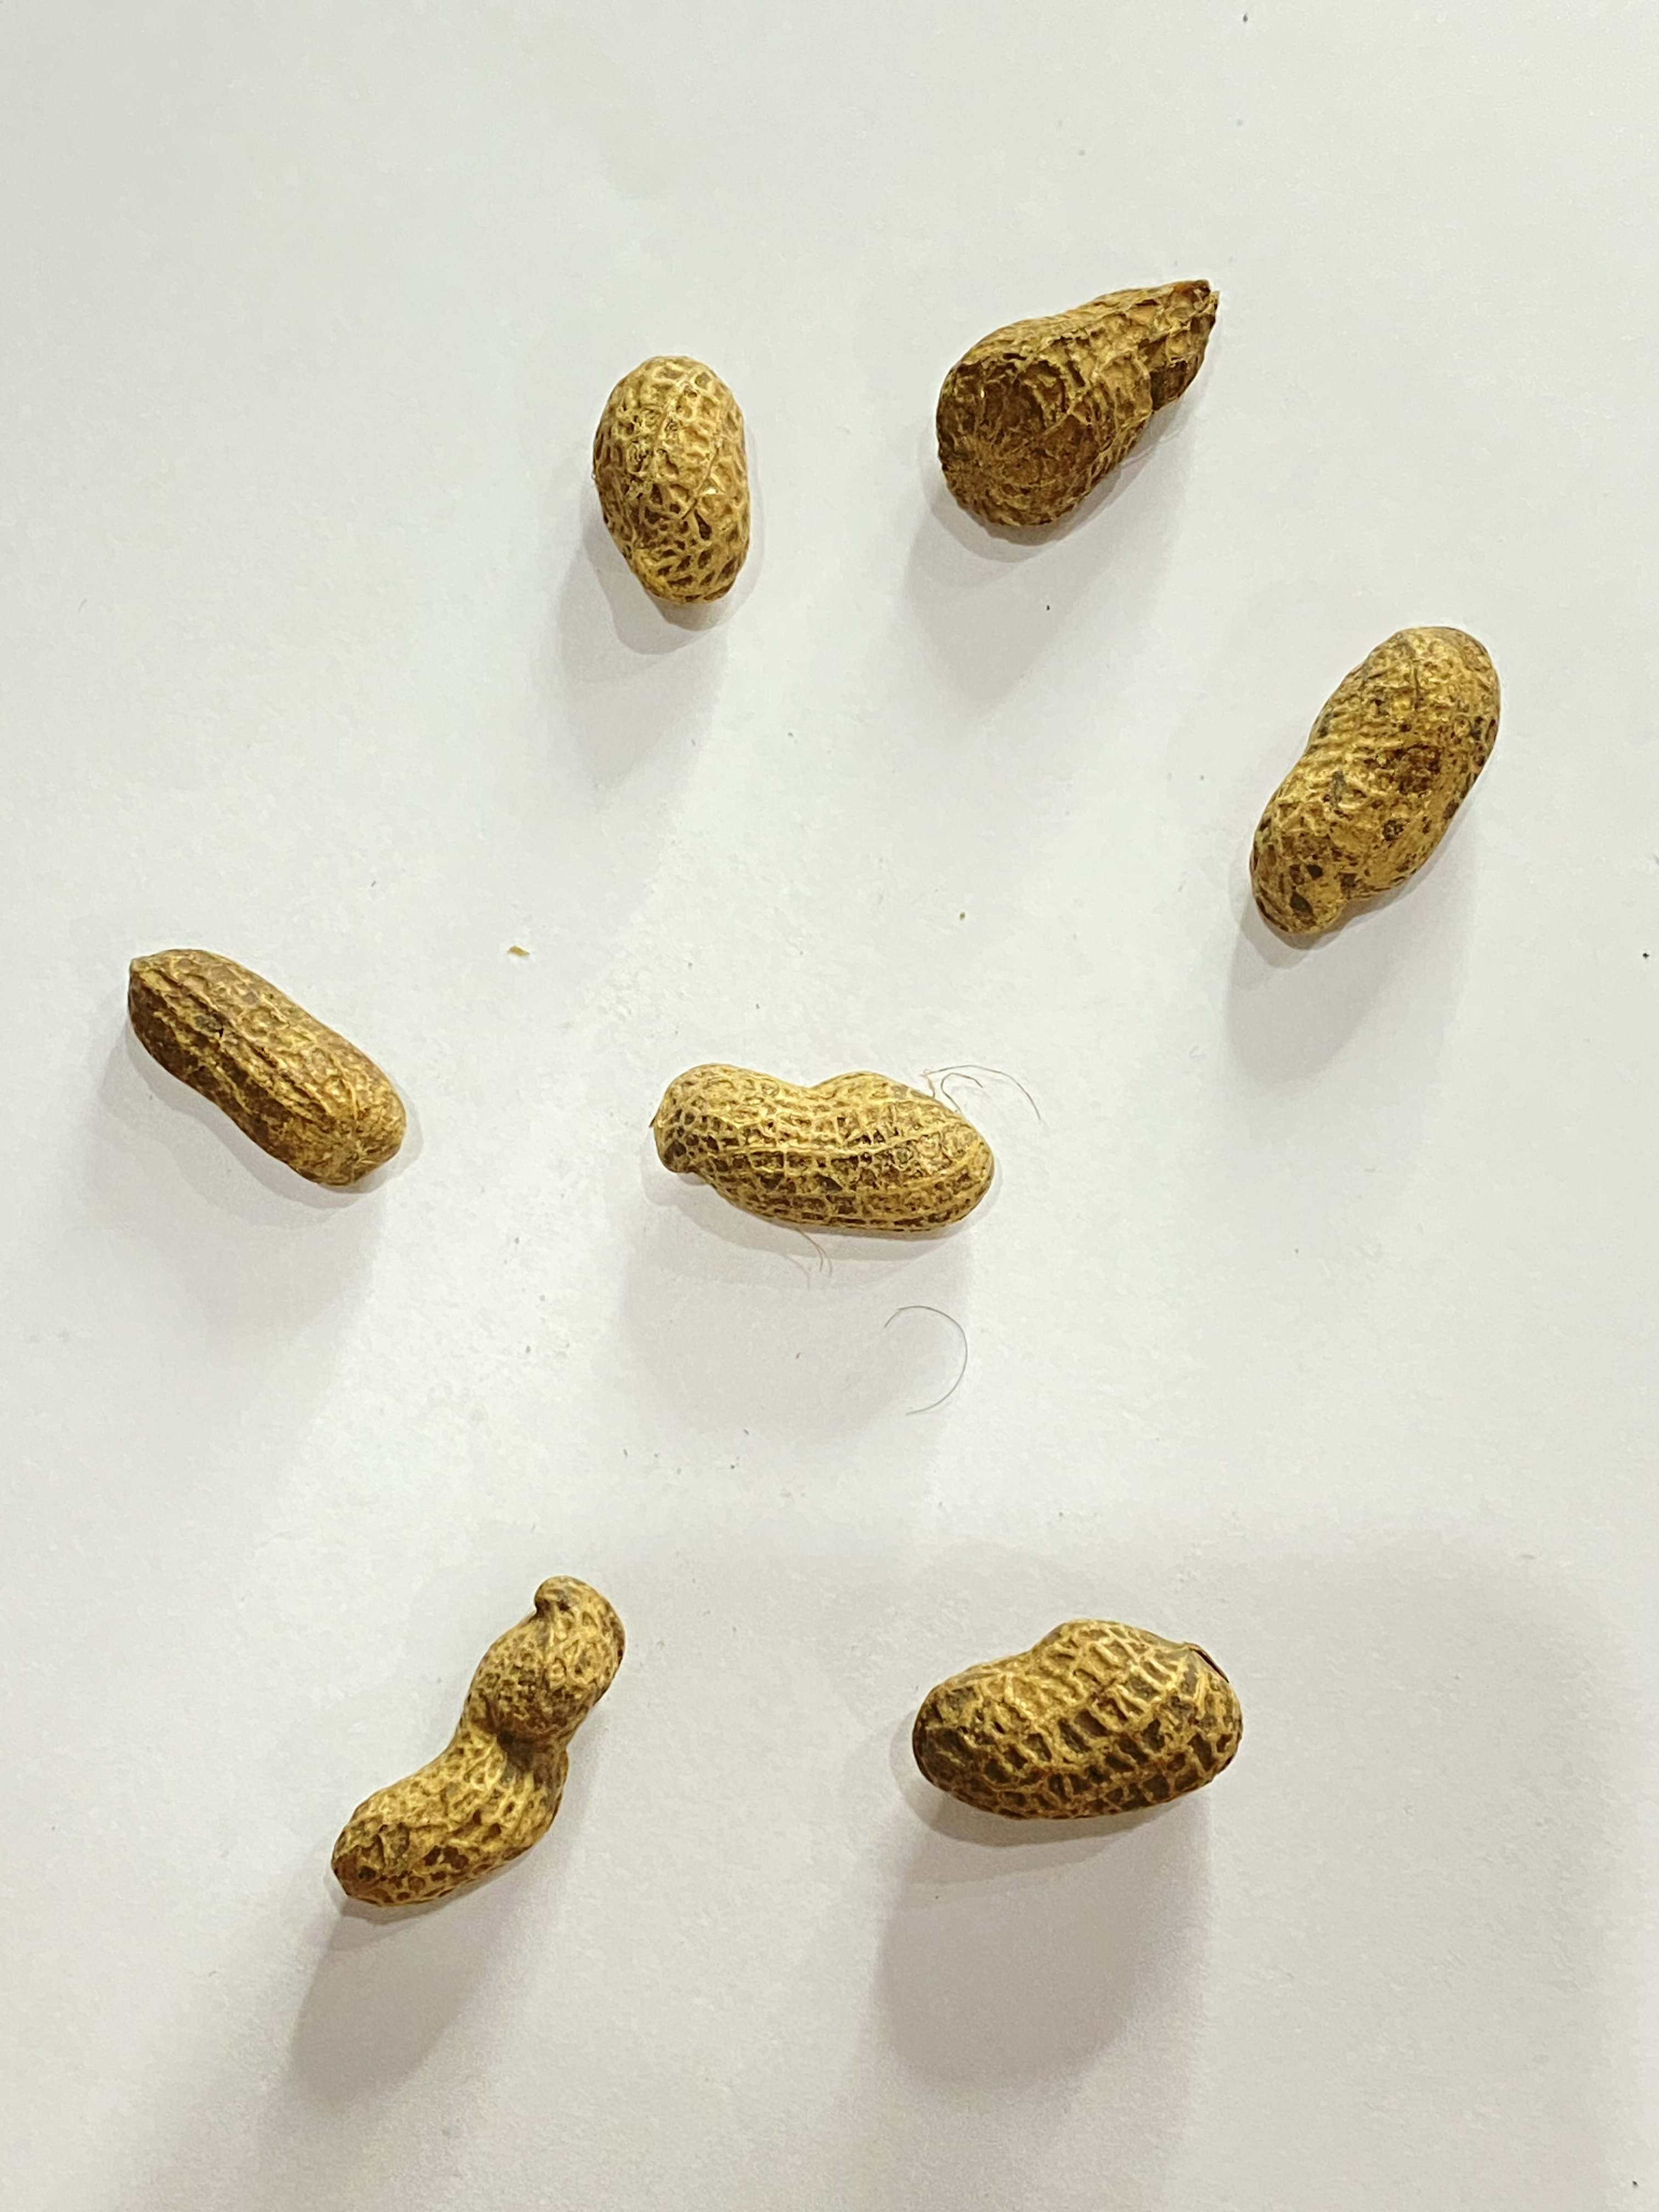kacang1: (934, 242, 1274, 550), (906, 1606, 1290, 1843), (587, 345, 782, 639)
kacang2: (328, 1569, 640, 1918), (1249, 610, 1520, 951), (101, 932, 429, 1191), (638, 1054, 1002, 1247)
